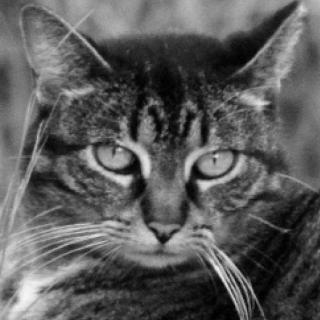cat: (14, 0, 308, 277)
nose: (138, 177, 188, 244)
